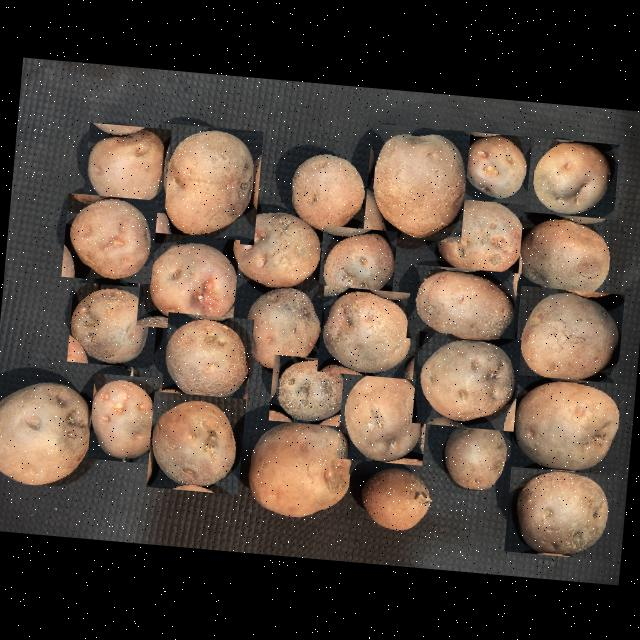Defected potato: (86, 372, 164, 464)
Diseased-fungal potato: (235, 414, 358, 529), (150, 122, 262, 244), (362, 122, 469, 242), (0, 366, 100, 491), (508, 373, 622, 474), (503, 460, 618, 559), (512, 284, 624, 385), (410, 330, 520, 430), (135, 230, 239, 332), (145, 389, 245, 494), (316, 284, 418, 378), (432, 189, 530, 286), (515, 210, 618, 302), (405, 262, 517, 346), (335, 364, 429, 464), (227, 204, 329, 296), (159, 310, 253, 408), (60, 191, 157, 283), (65, 280, 158, 368), (524, 136, 619, 222), (81, 121, 170, 212), (240, 279, 326, 370), (283, 146, 368, 234), (268, 353, 354, 426), (316, 224, 396, 302), (438, 416, 511, 496), (357, 462, 432, 536), (455, 130, 531, 203)
